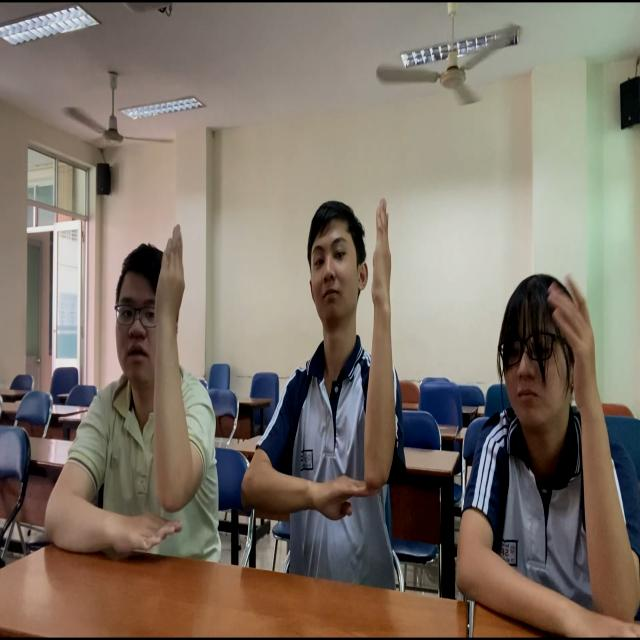raise_hand: (453, 266, 640, 640), (239, 199, 413, 594), (43, 221, 222, 556)
